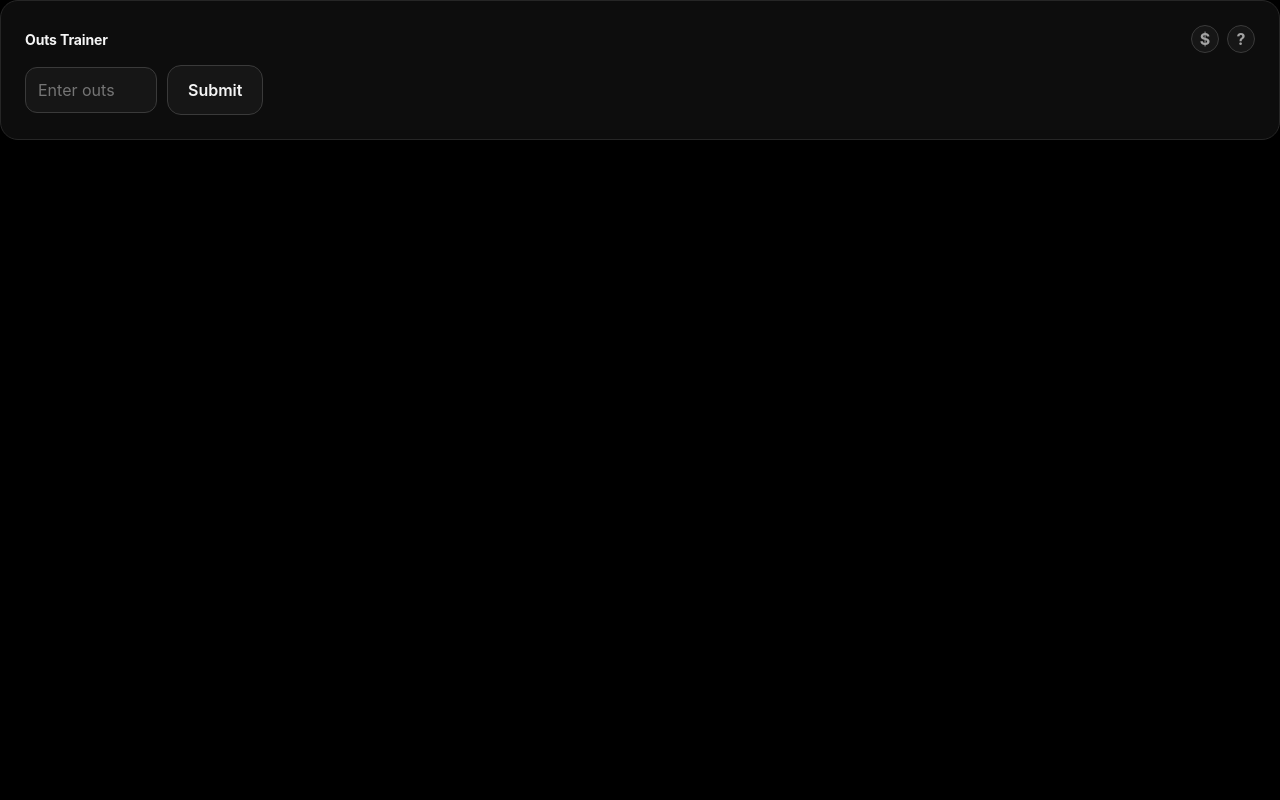
OutsPanel › toggles the help and pot-odds chart
The image size is (1280, 800).
Click the button named "Show outs help": x=1241, y=39 [1227,25,1255,53]
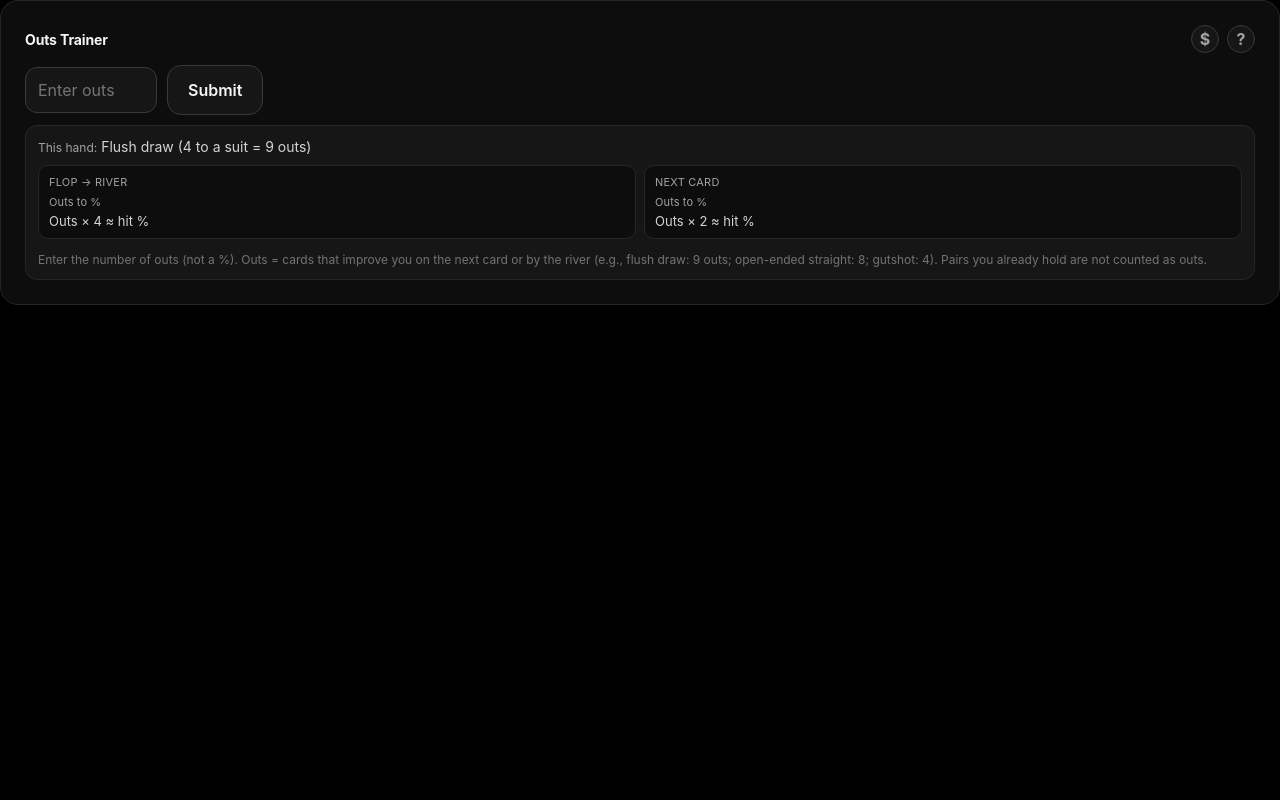
Check: the text "This hand: Flush draw (4 to a suit = 9 outs)" is shown, box [38,138,311,155]
Click the button named "Pot odds chart": x=1205, y=39 [1191,25,1219,53]
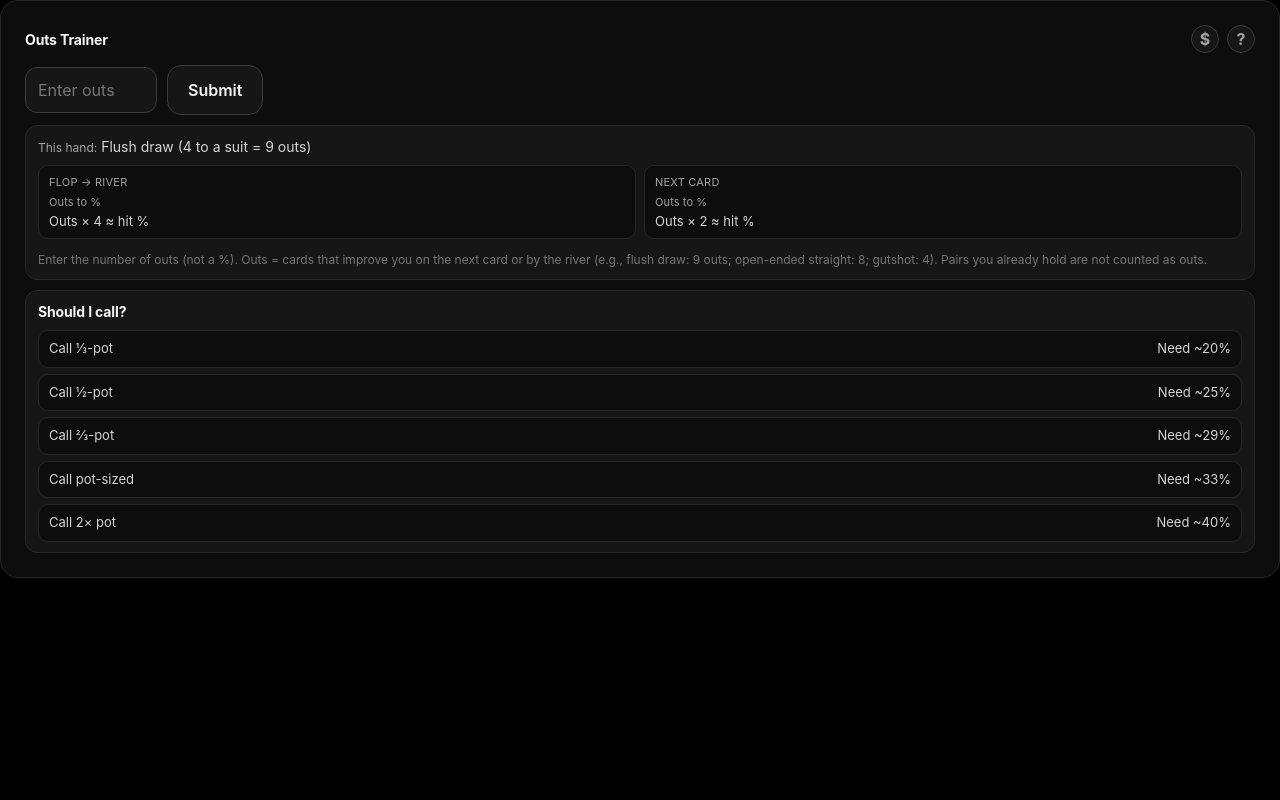
Check: the text "Should I call?" is shown, box [38,303,126,320]
Check: the text "Call pot-sized" is shown, box [49,470,134,489]
